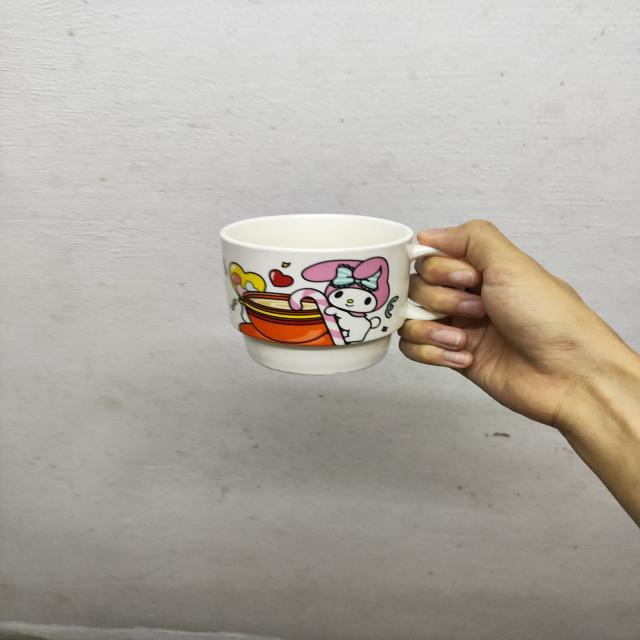cup: (201, 198, 474, 403)
